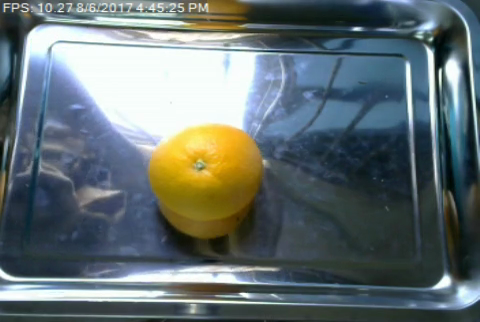Orange: (147, 123, 264, 220)
